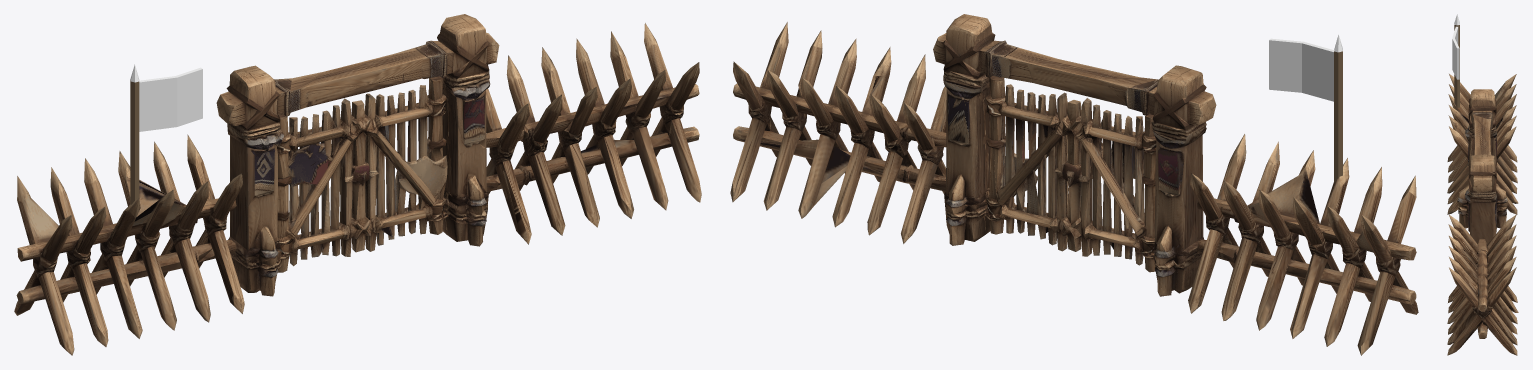
3 renders of one model, left to right at view 1: azimuth 30°, elevation 25°; view 2: azimuth 150°, elevation 25°; view 3: azimuth 270°, elevation 25°, orthographic. The views are drawn at different scales.
Visible parts, largest first — view 1: steppe_palisade_gate, Team_banner; view 2: steppe_palisade_gate, Team_banner; view 3: steppe_palisade_gate, Team_banner.
Part boxes in pixels (x1=…): steppe_palisade_gate: x1=14, y1=14, x2=701, y2=355; Team_banner: x1=130, y1=64, x2=202, y2=212; steppe_palisade_gate: x1=730, y1=14, x2=1418, y2=355; Team_banner: x1=1269, y1=35, x2=1342, y2=182; steppe_palisade_gate: x1=1447, y1=74, x2=1518, y2=355; Team_banner: x1=1452, y1=14, x2=1459, y2=107.
Size of the model in its own units: 1.9 by 0.7226 by 0.2756.
Materials: 3 (1 with a texture image).
